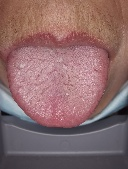tongue: (5, 53, 111, 130)
